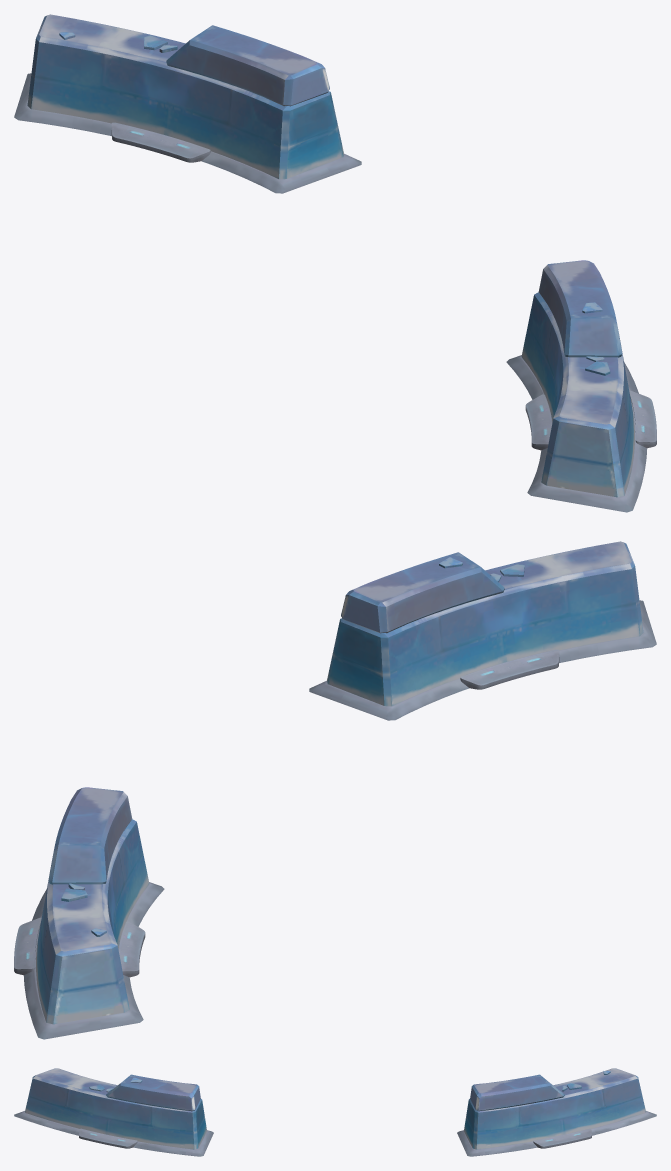
Rendered from pref_sm_beach_winter_icewall02_lv3.fbx.
The picture shows the model from 3 angles, top to bottom: view 1: azimuth 30°, elevation 25°; view 2: azimuth 150°, elevation 25°; view 3: azimuth 270°, elevation 25°; orthographic projection. The views are drawn at different scales.
Parts seen in each view (by area): view 1: pref_sm_beach_winter_icewall02_lv3; view 2: pref_sm_beach_winter_icewall02_lv3; view 3: pref_sm_beach_winter_icewall02_lv3.
Boxes of the visible parts, bbox=[...] form: pref_sm_beach_winter_icewall02_lv3: bbox=[14, 14, 656, 512]; pref_sm_beach_winter_icewall02_lv3: bbox=[14, 541, 656, 1039]; pref_sm_beach_winter_icewall02_lv3: bbox=[14, 1068, 656, 1156].
Size of the model in its own units: 3.59 by 1.63 by 17.29.
